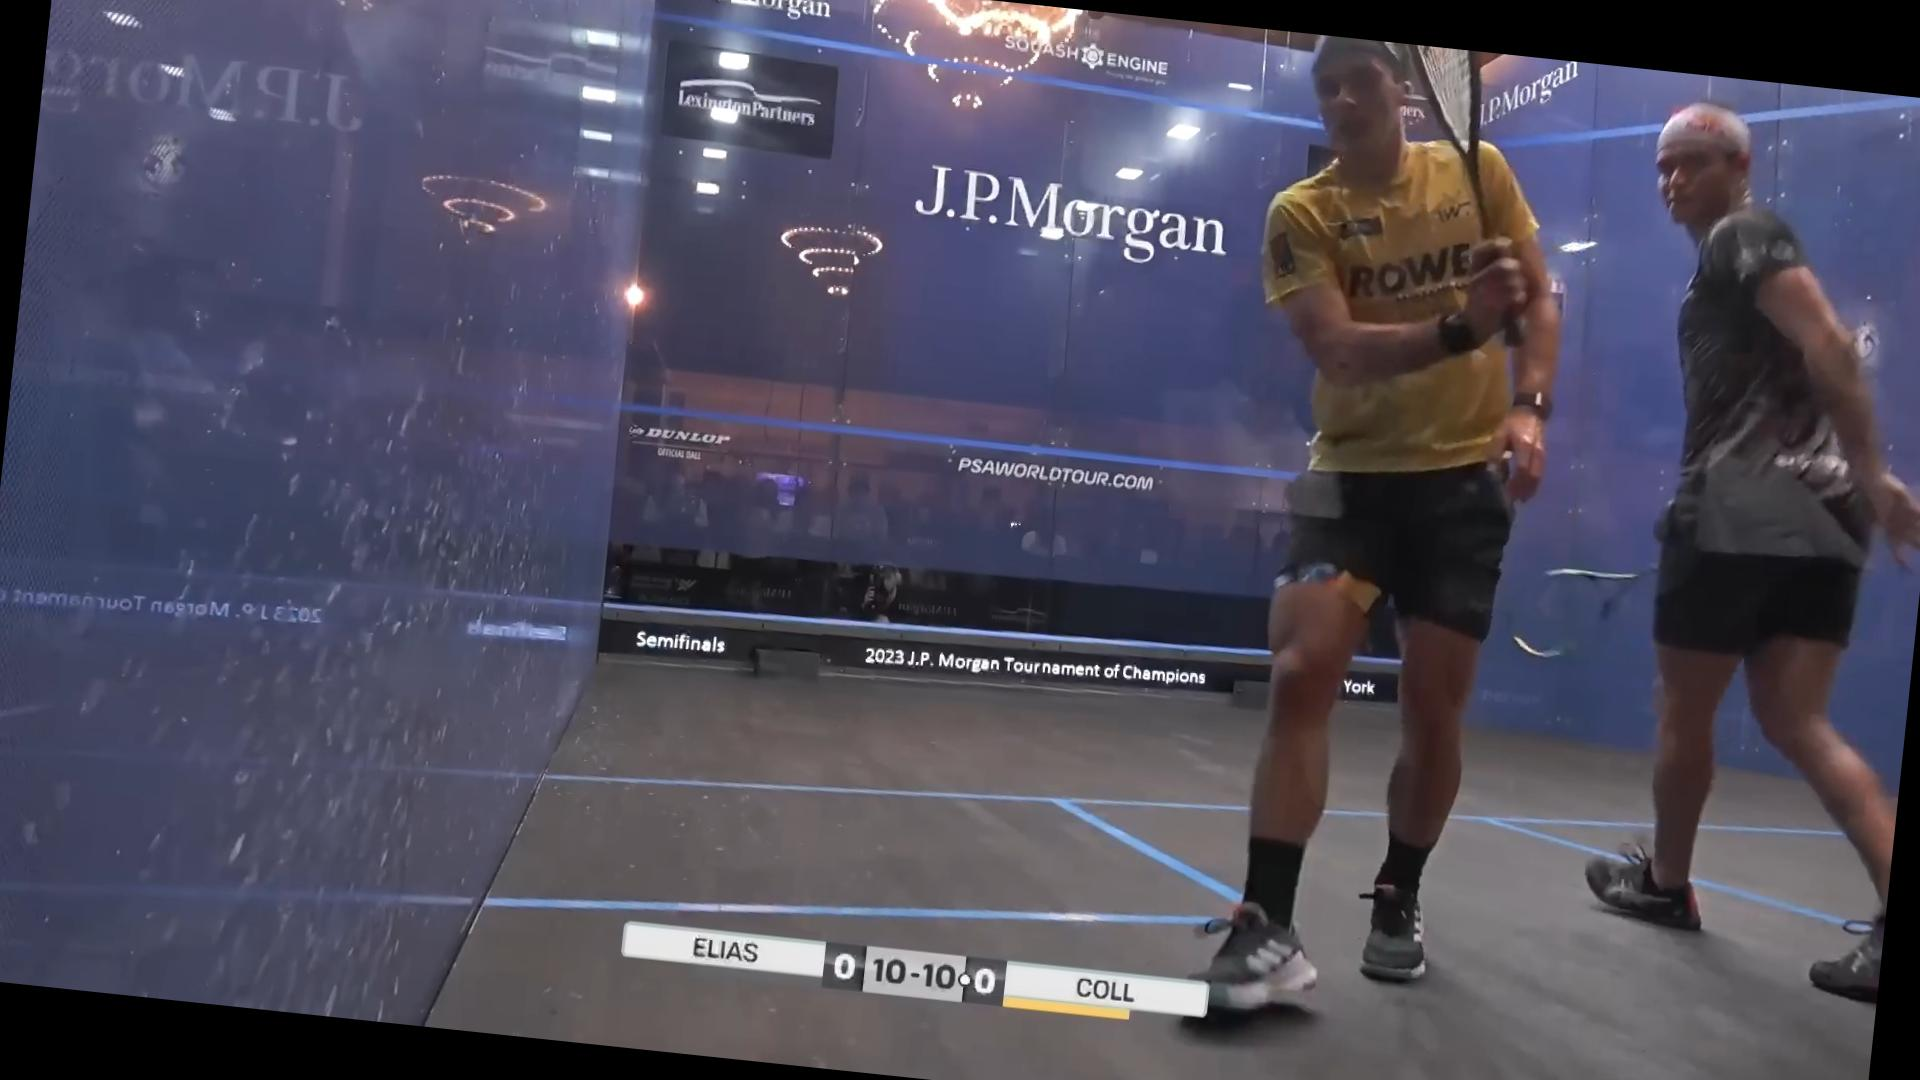Racket: (1361, 42, 1560, 359), (1503, 545, 1658, 676)
